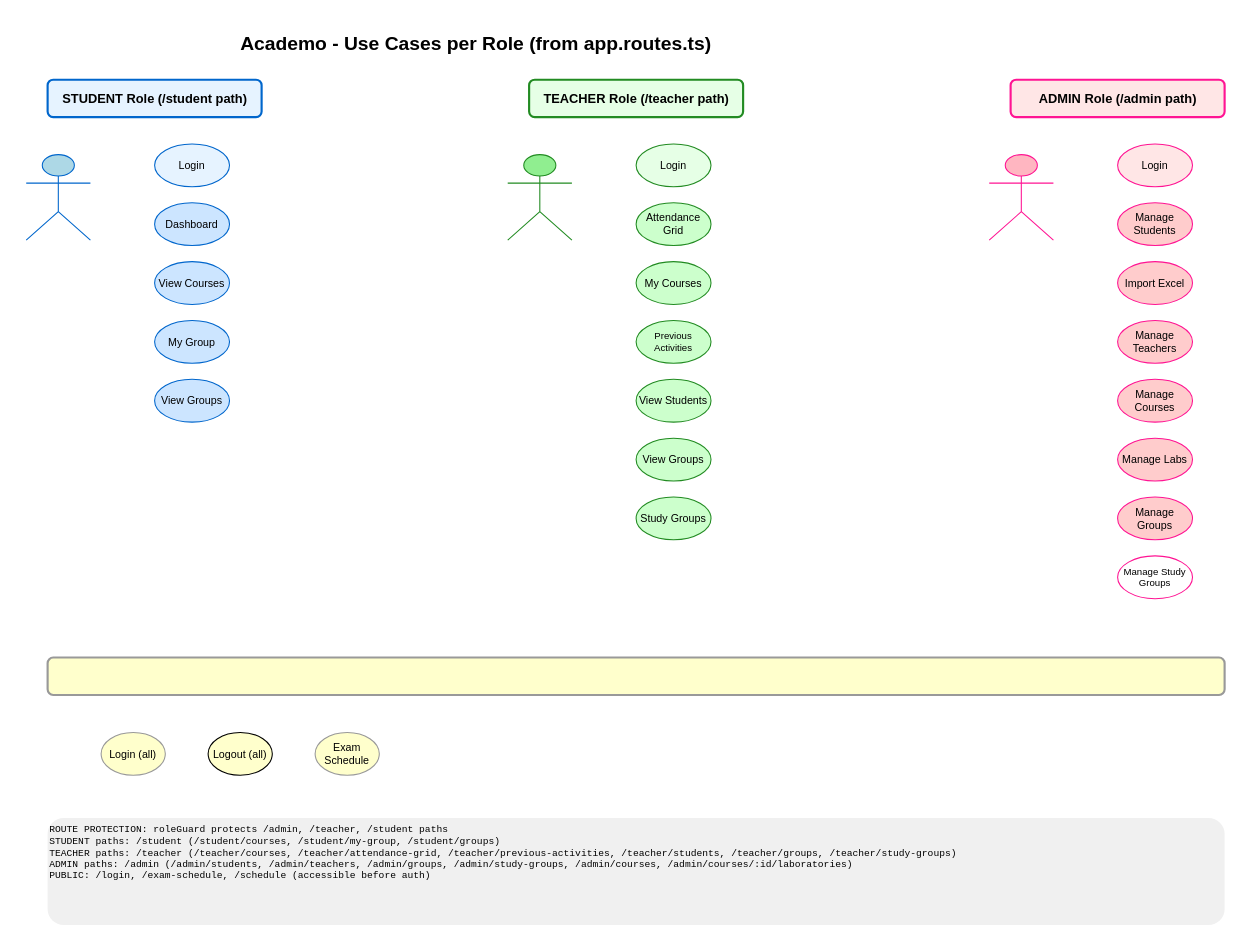
The diagram is 1244 pixels wide and 944 high, and some of its shapes have lost their labels. The shapes that lost their labels are listed below. From the top down, each one's box as (x1, y1, x2, y2) in pixels, then its label:
(25, 154, 90, 240): Student
(507, 154, 572, 240): Teacher
(988, 154, 1053, 240): Admin
(46, 656, 1225, 696): Shared/Public Features
